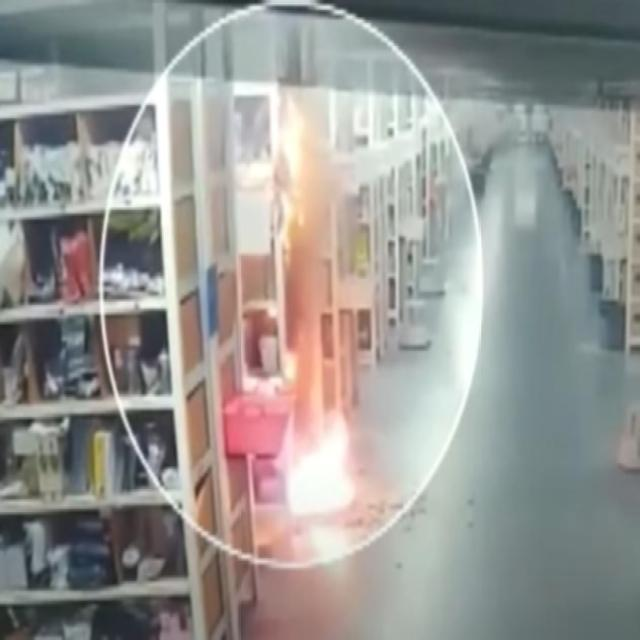fire: (269, 90, 370, 534)
